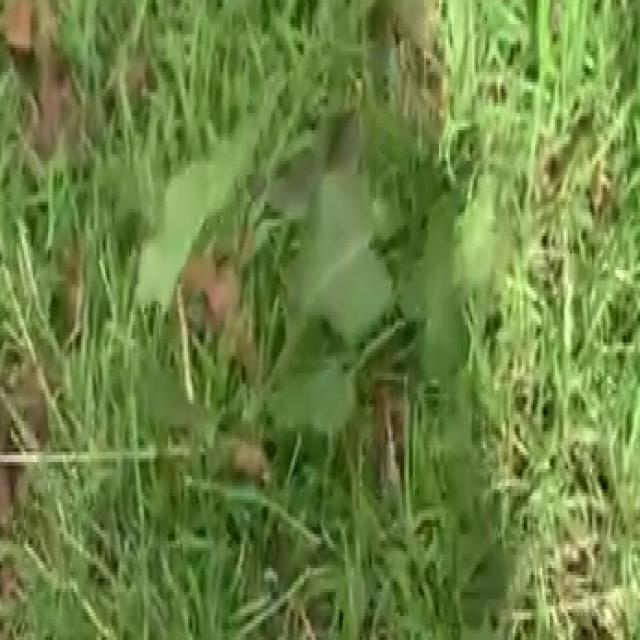organic waste: (114, 133, 509, 493)
